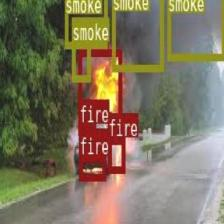fire: (78, 48, 121, 134), (78, 156, 106, 180), (107, 136, 125, 172), (78, 122, 96, 142)
smoke: (110, 0, 162, 70), (166, 0, 224, 59), (64, 0, 107, 47), (71, 41, 90, 80)
